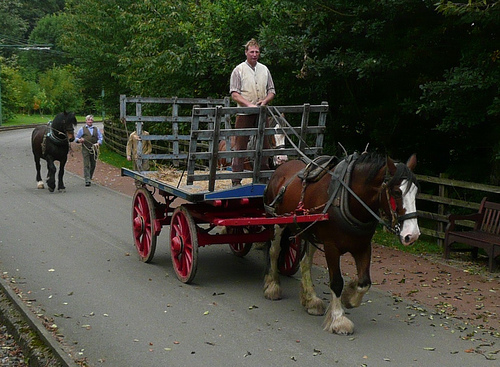horse: (262, 147, 422, 336), (217, 112, 292, 171), (31, 111, 78, 192)
